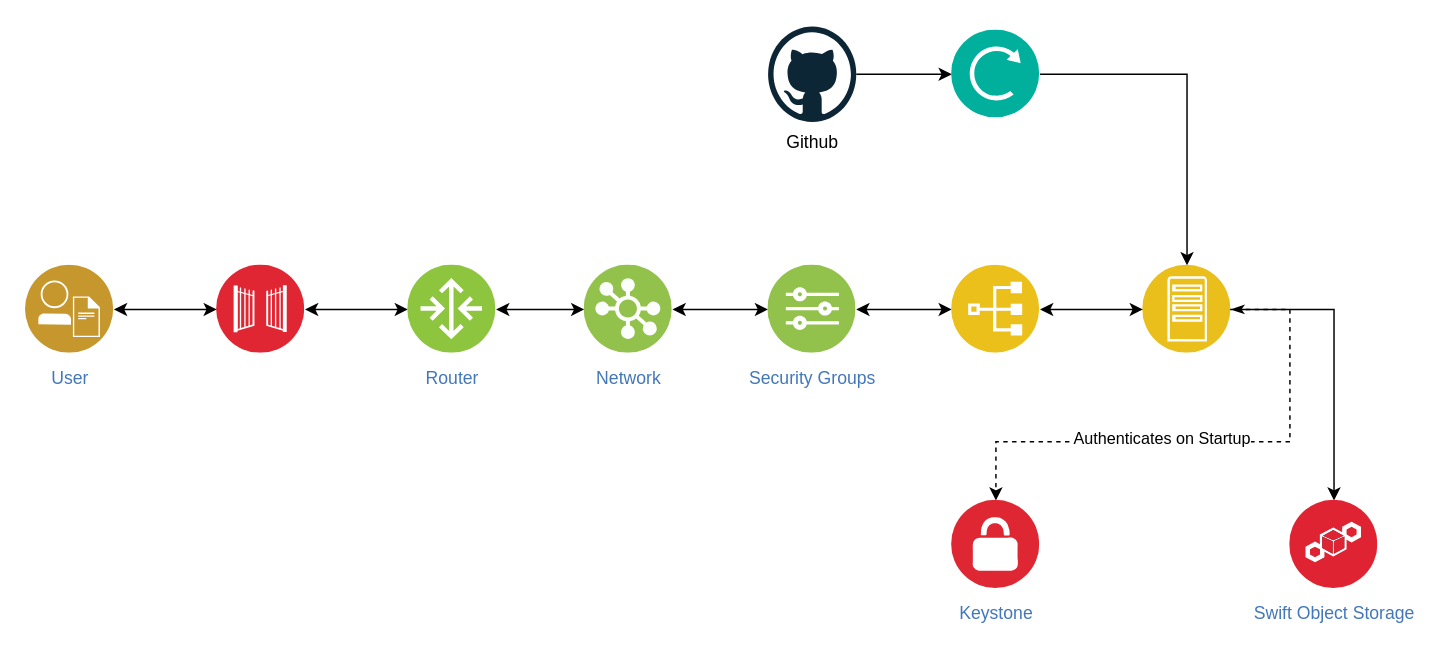
Image size: 1439x648. Some labels were removed from this diagram. The centre of each missing label's shape, as x and y in pixels:
Actions: pixel 995 73
Gateway: pixel 260 309
Gisty Servers: pixel 1186 309
Load Balancer: pixel 995 309
